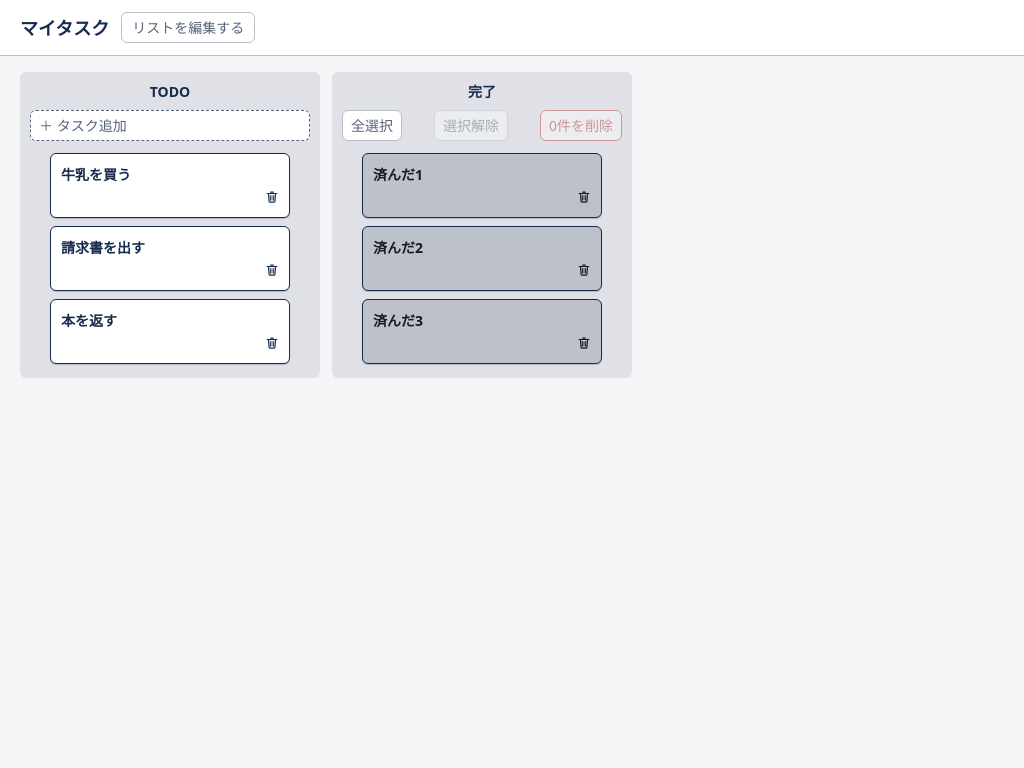
Scenario: 完了列の選択削除（F-15） › 削除に失敗したら、タスクが元の並びで戻る
Check: the heading "牛乳を買う" is shown, box [61,165,131,184]
Step 1. Click the checkbox named "「済んだ1」を選択" → [482, 186], box [342,153,622,218]
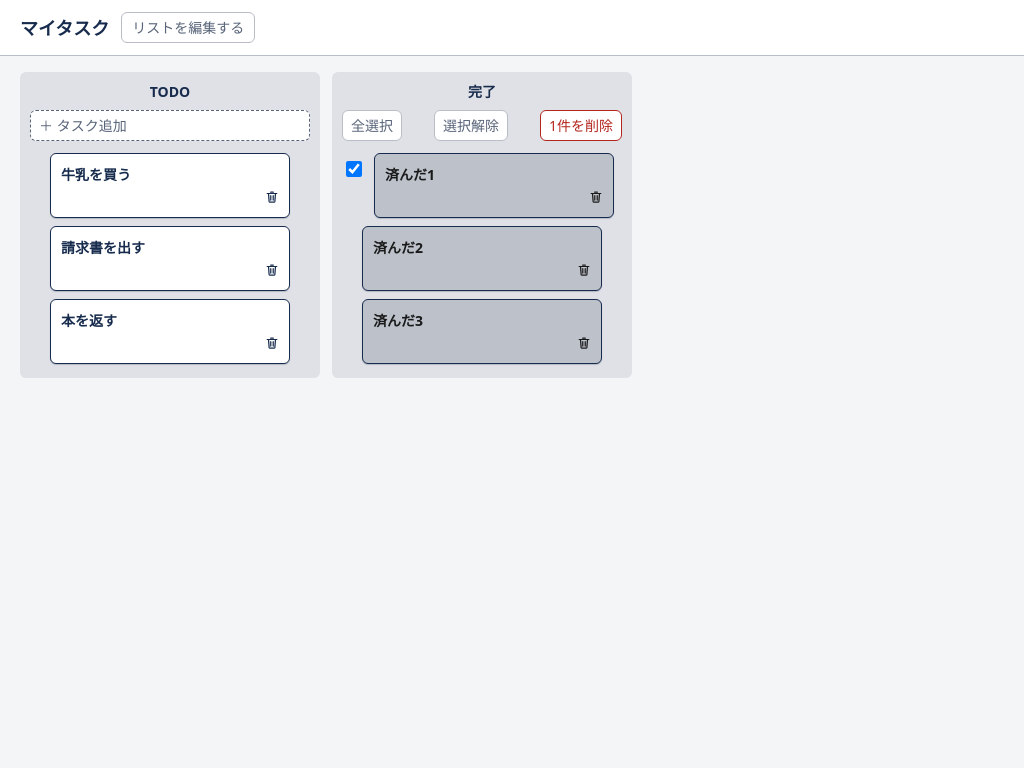
Step 2. Click the 6th checkbox labelled "済んだ3" → [482, 332], box [342,299,622,364]
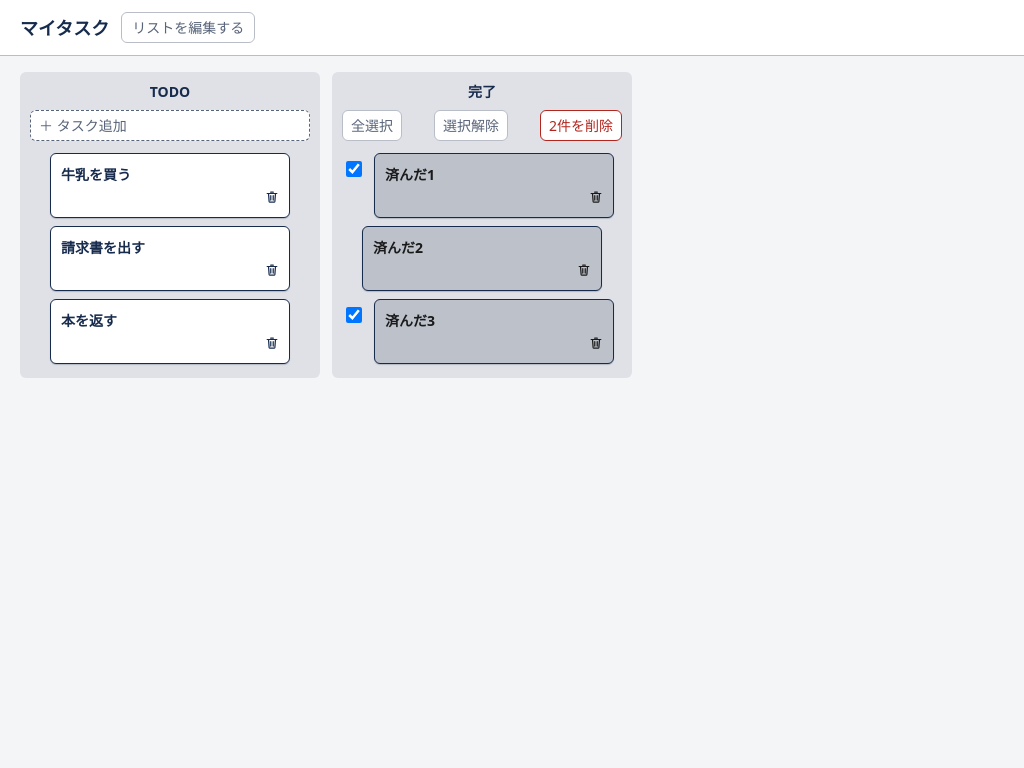
Step 3. Click the button "2件を削除" → [581, 126], box [540,110,622,141]
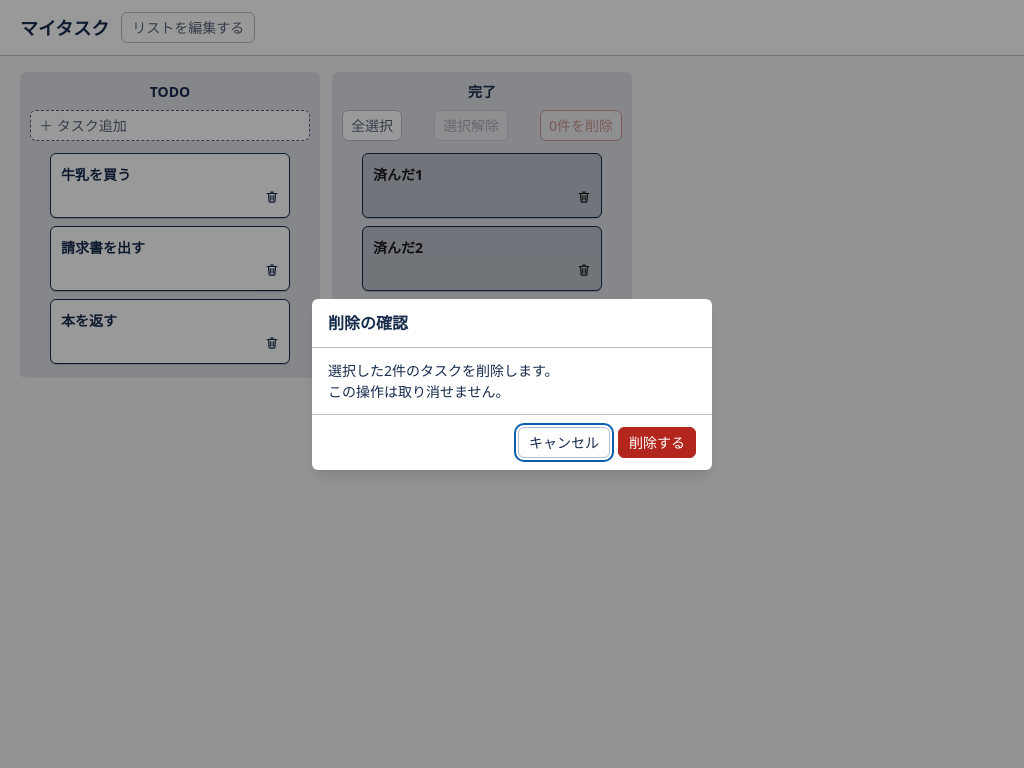
Step 4. Click the button "削除する" → [657, 442], box [618,426,696,458]
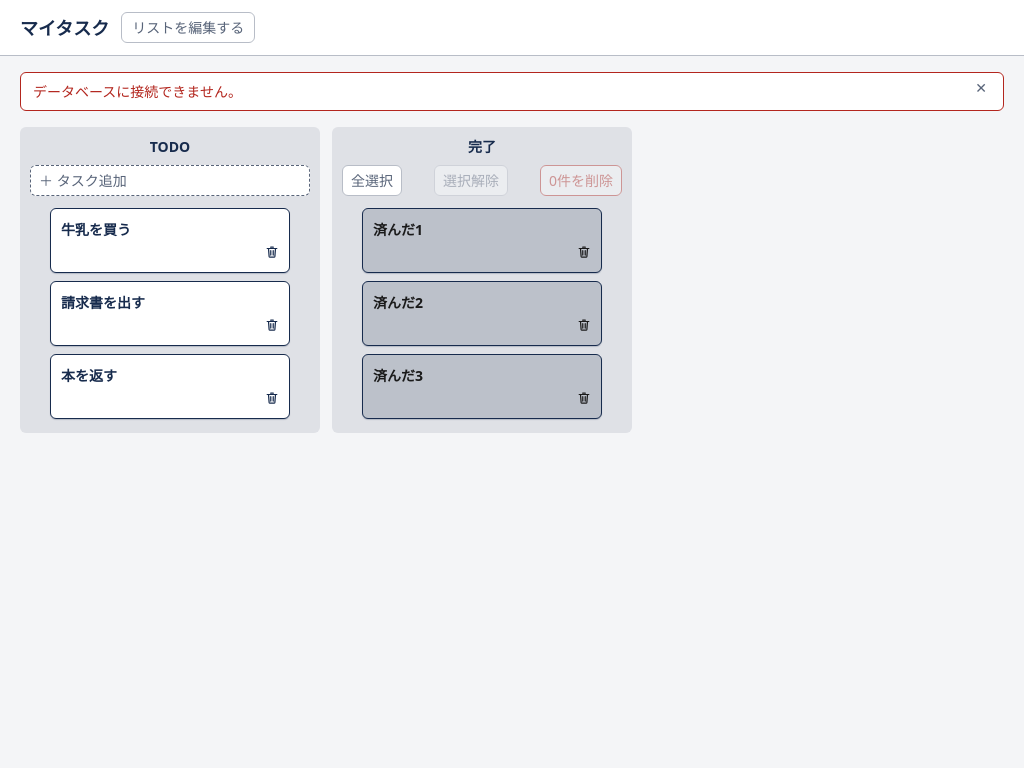
Check: the message shows "データベースに接続できません。", box [33,82,242,101]
